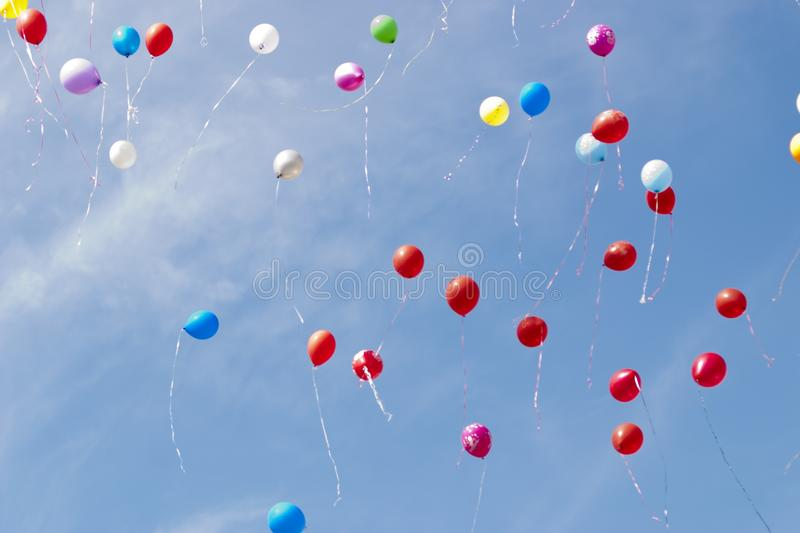Balloon: (60, 57, 102, 95), (591, 109, 629, 144), (446, 276, 480, 315), (267, 502, 306, 533), (692, 353, 727, 387), (392, 244, 424, 279), (183, 310, 220, 340), (17, 8, 47, 44), (308, 329, 336, 367), (640, 159, 672, 192), (610, 368, 641, 402), (520, 82, 550, 117), (612, 423, 643, 456), (462, 423, 491, 458), (248, 23, 279, 55), (586, 24, 616, 57), (147, 22, 174, 58), (273, 149, 304, 180), (352, 349, 383, 380), (716, 288, 747, 319), (517, 316, 547, 348), (577, 132, 606, 165), (334, 62, 365, 92), (604, 241, 636, 270), (479, 96, 509, 126), (108, 139, 137, 168), (112, 25, 139, 56), (370, 14, 397, 44), (646, 188, 676, 215)
